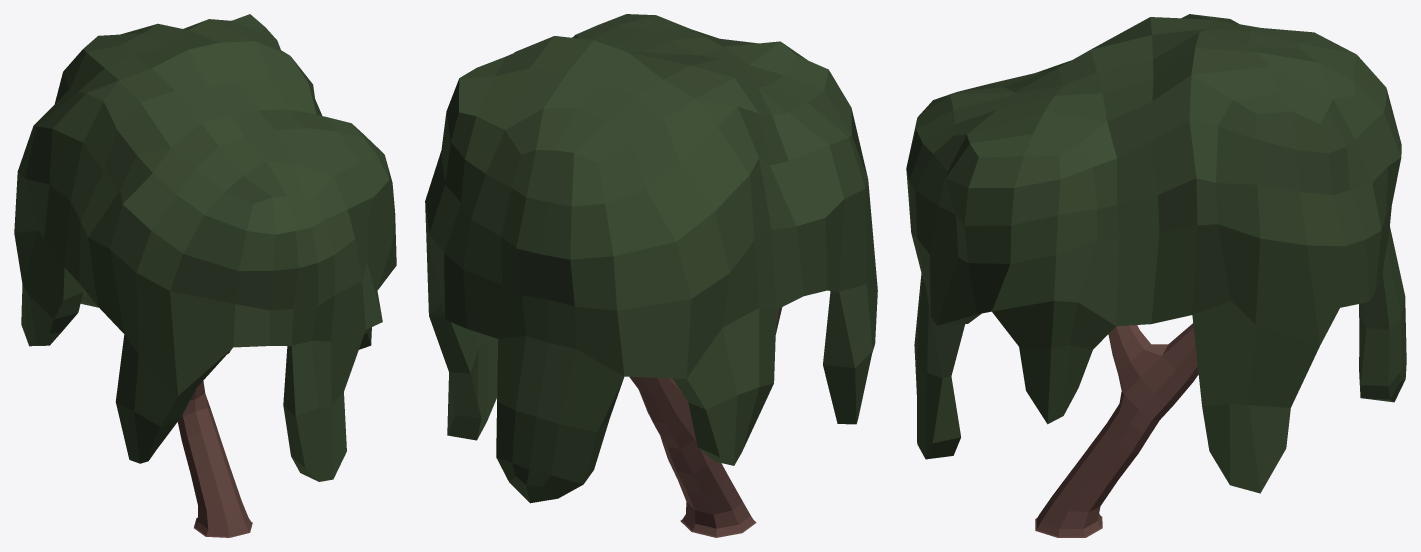
The model's file is willow-4.glb.
The picture shows the model from 3 angles, left to right: view 1: azimuth 30°, elevation 25°; view 2: azimuth 150°, elevation 25°; view 3: azimuth 270°, elevation 25°; orthographic projection. The views are drawn at different scales.
Parts seen in each view (by area): view 1: Willow_4; view 2: Willow_4; view 3: Willow_4.
Part boxes in pixels (x1,y1,x2,y2): Willow_4: [14, 14, 396, 537]; Willow_4: [425, 14, 877, 537]; Willow_4: [906, 14, 1406, 537].
Bounding box in the file's own units: 2.19 × 3.39 × 3.04.
